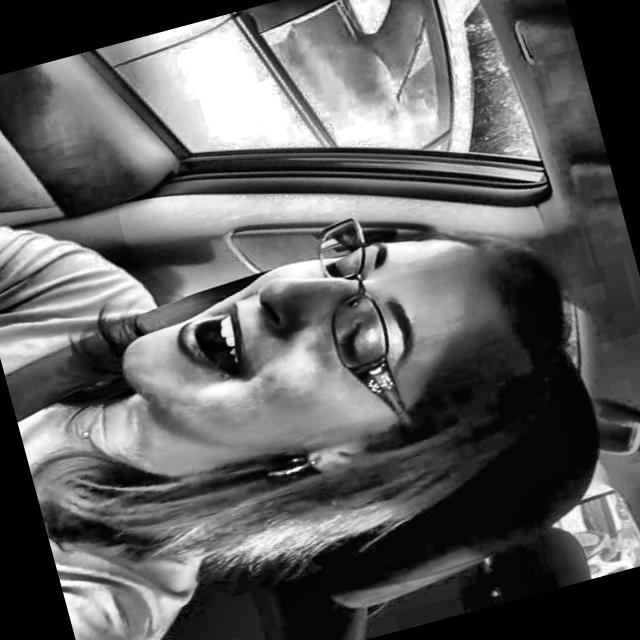closed_eyes: (317, 305, 394, 380), (308, 235, 373, 285)
open_mouth: (144, 290, 257, 395)
